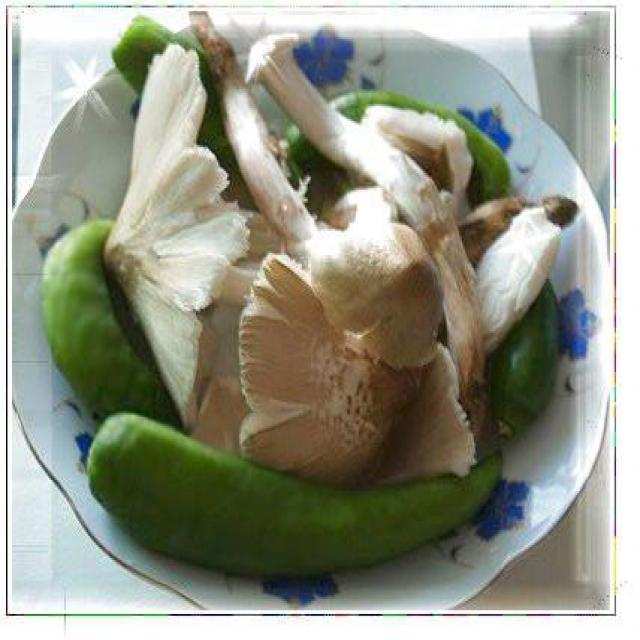Collybia albuminosa: (191, 10, 478, 479), (249, 33, 580, 377), (109, 39, 268, 417)
